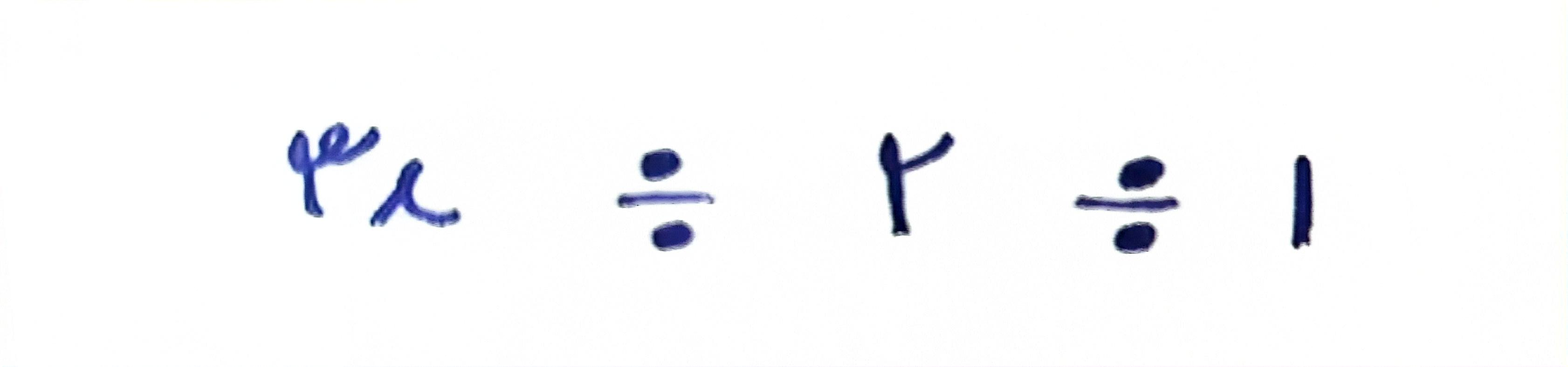character: (616, 146, 717, 253), (1077, 156, 1178, 253), (288, 119, 382, 218), (878, 131, 953, 236), (369, 159, 459, 233), (1287, 154, 1317, 251)
